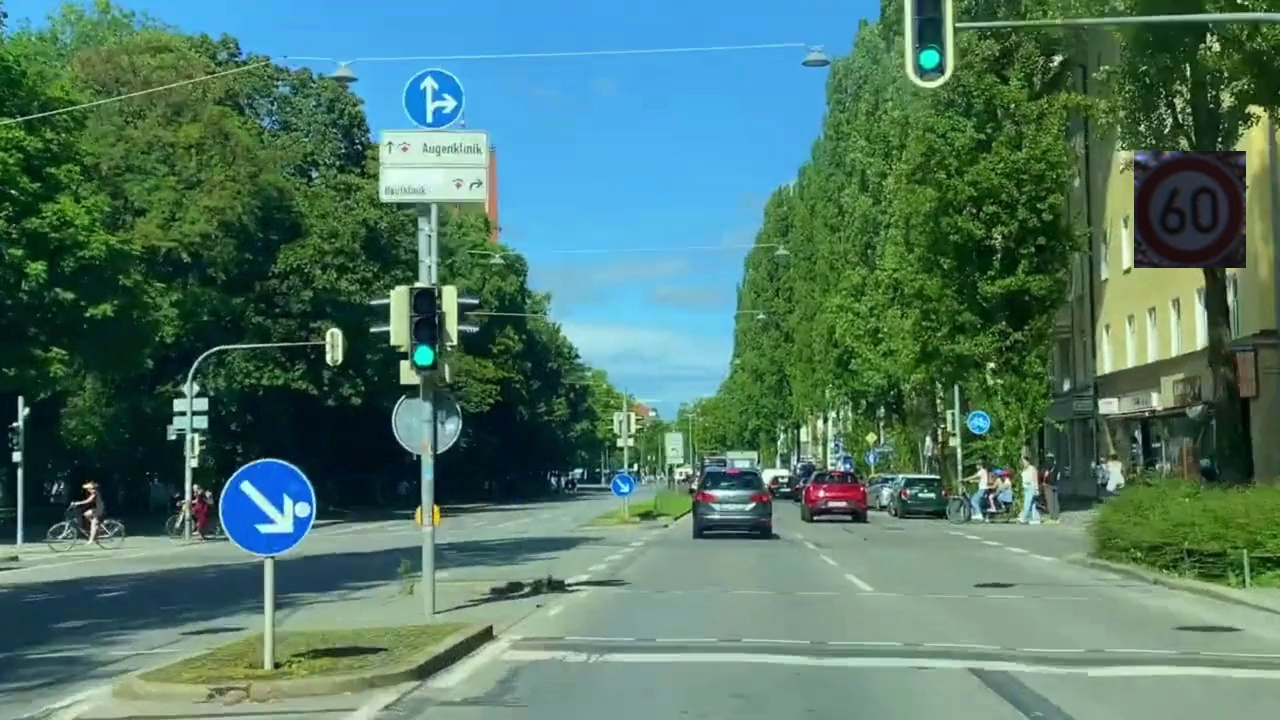Speed 60: (1134, 151, 1246, 268)
